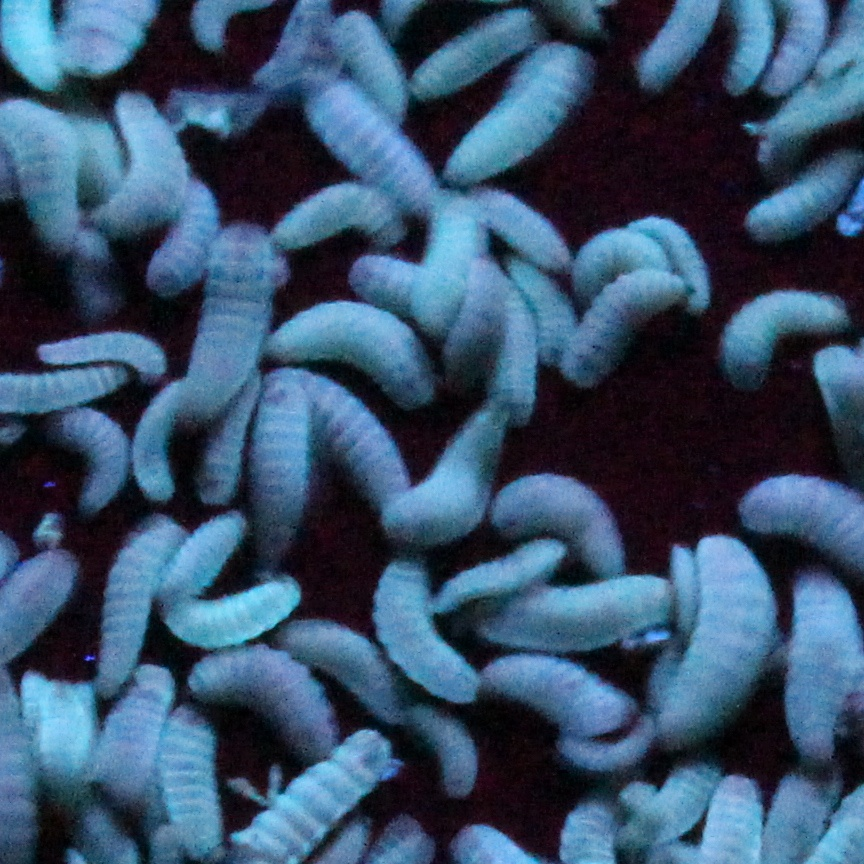larve: (163, 223, 286, 421), (659, 537, 763, 753), (301, 65, 442, 213), (444, 42, 589, 184), (376, 401, 507, 541), (271, 301, 439, 410), (364, 554, 483, 706), (97, 513, 190, 698), (552, 270, 699, 386), (194, 646, 339, 753), (495, 480, 635, 577), (721, 286, 852, 389), (94, 89, 187, 230), (786, 587, 861, 760), (487, 658, 628, 732), (96, 668, 173, 793), (459, 189, 571, 263), (149, 177, 218, 292), (159, 513, 247, 601), (275, 189, 402, 244), (59, 411, 126, 515), (37, 339, 170, 377)
